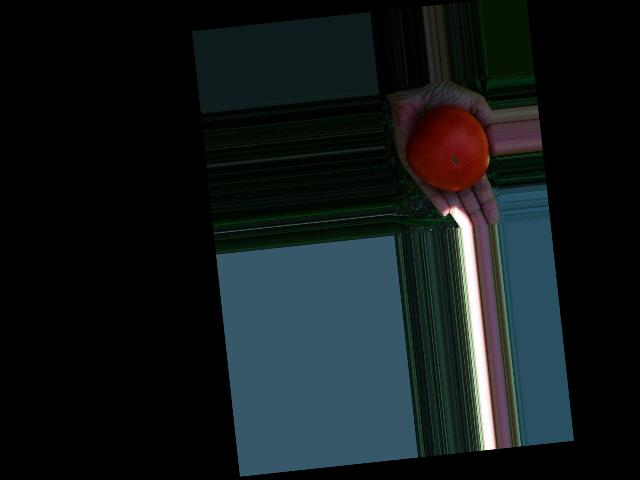tomato: (401, 102, 493, 196)
